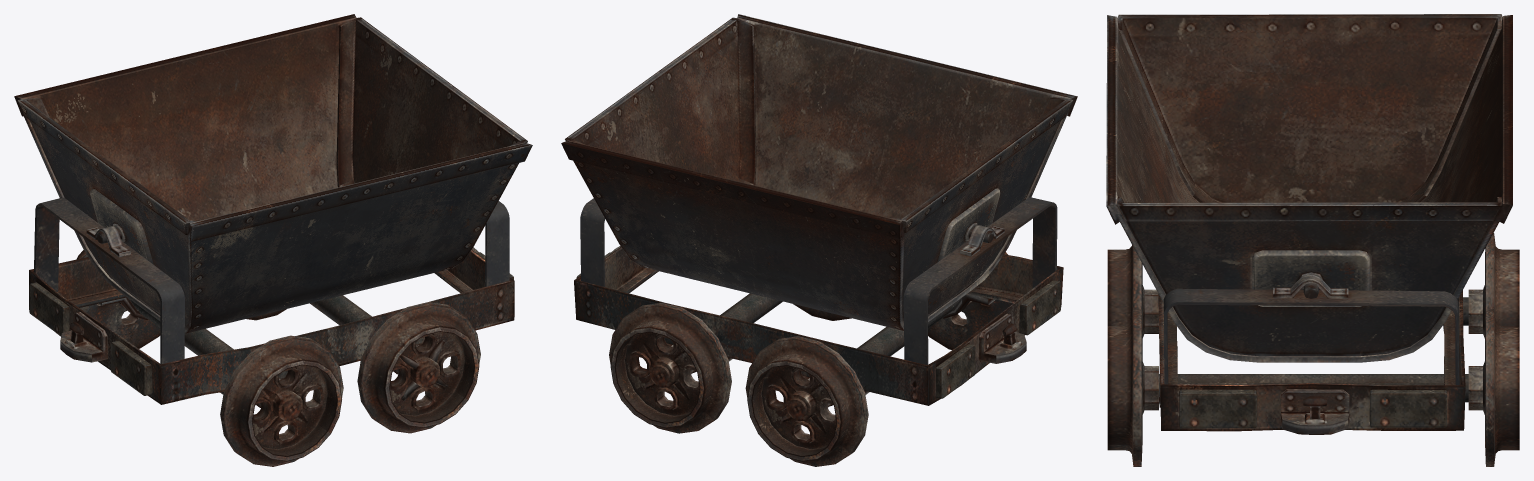
The model's file is mineCart.fbx.
3 renders of one model, left to right at view 1: azimuth 30°, elevation 25°; view 2: azimuth 150°, elevation 25°; view 3: azimuth 270°, elevation 25°, orthographic. The views are drawn at different scales.
Parts seen in each view (by area): view 1: coalCart:SM_coal_cart001; view 2: coalCart:SM_coal_cart001; view 3: coalCart:SM_coal_cart001.
Part boxes in pixels (x1,y1,x2,y2): coalCart:SM_coal_cart001: (14, 14, 532, 466); coalCart:SM_coal_cart001: (561, 14, 1077, 466); coalCart:SM_coal_cart001: (1106, 14, 1519, 466).
Size of the model in its own units: 173 by 110 by 133.
